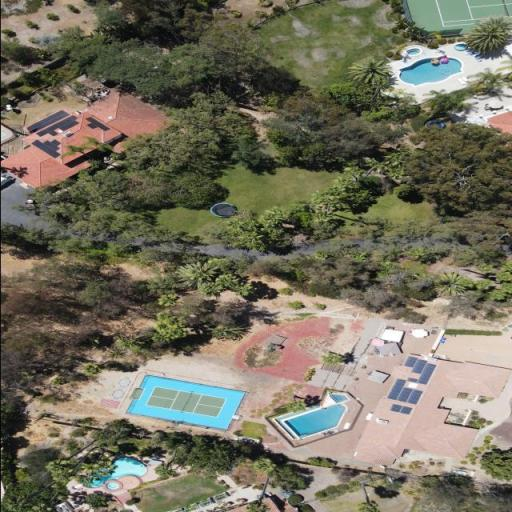solar-panel: (26, 110, 69, 133), (35, 115, 79, 137), (403, 356, 436, 385), (386, 378, 422, 404), (30, 139, 61, 158), (84, 117, 110, 131), (389, 404, 412, 415)
